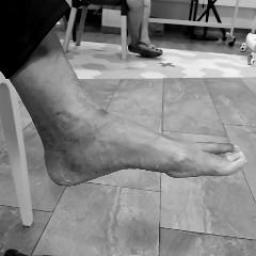Medial View -Left Foot-: (19, 80, 255, 207)
